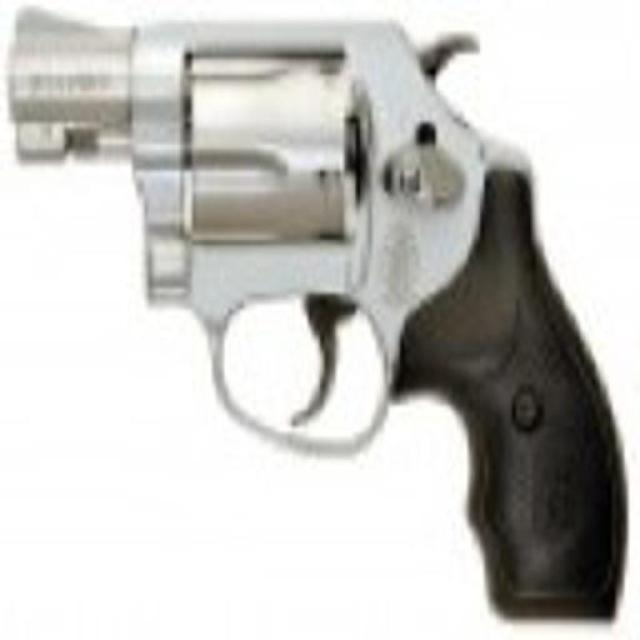pistol: (11, 5, 631, 617)
